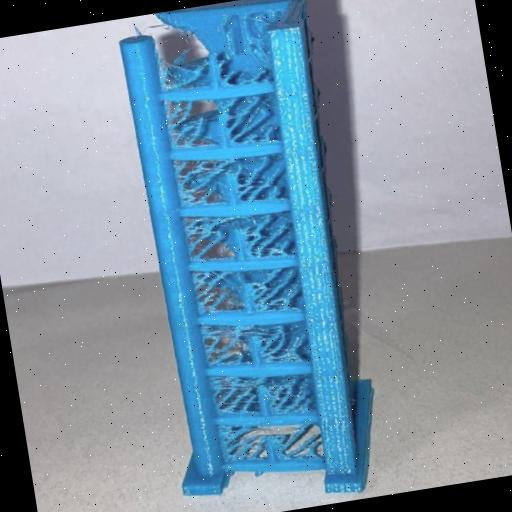stringing: (188, 267, 250, 310), (252, 267, 309, 312), (176, 162, 226, 212), (225, 98, 278, 142), (232, 160, 284, 204), (160, 101, 208, 147), (244, 215, 296, 257), (210, 377, 264, 417), (200, 330, 251, 370), (277, 422, 323, 460), (266, 374, 316, 408), (264, 326, 304, 366), (186, 218, 227, 257), (219, 426, 262, 460)
